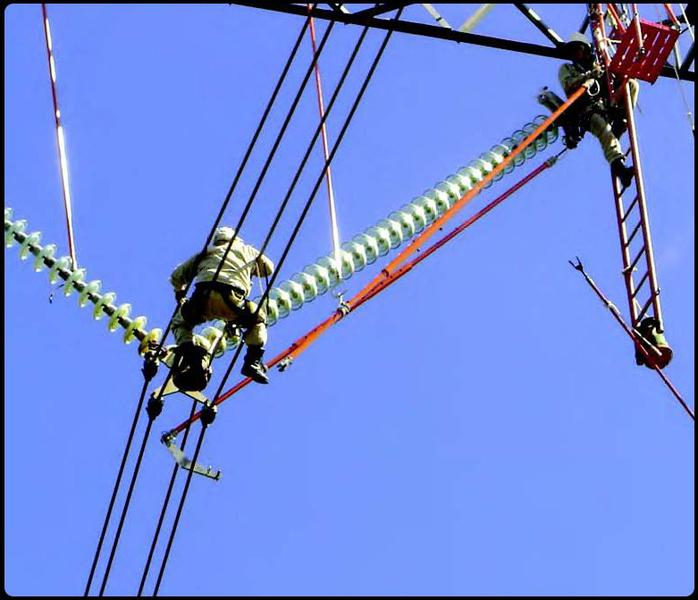isolator: (192, 114, 559, 360), (4, 206, 163, 357)
